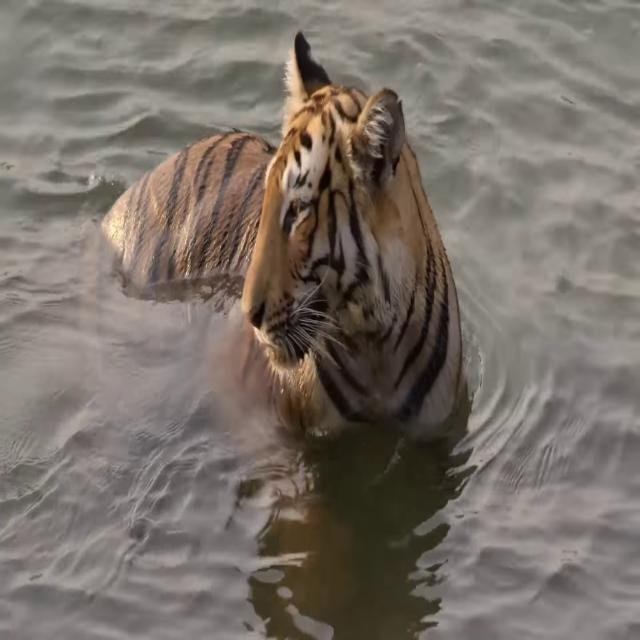tiger: (96, 32, 468, 442)
